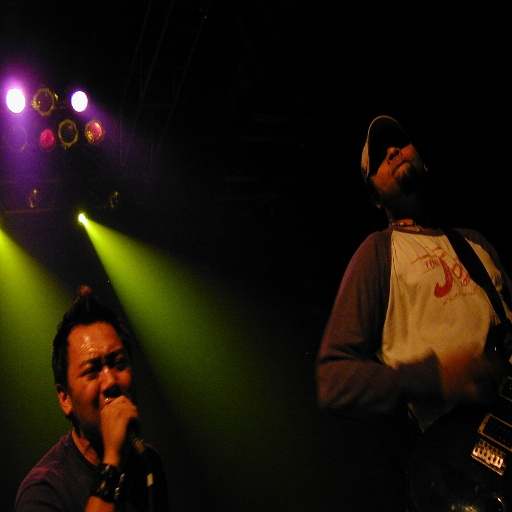hand: (436, 341, 483, 402), (99, 391, 137, 449)
